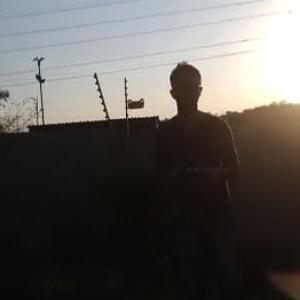follow: (156, 53, 252, 299)
